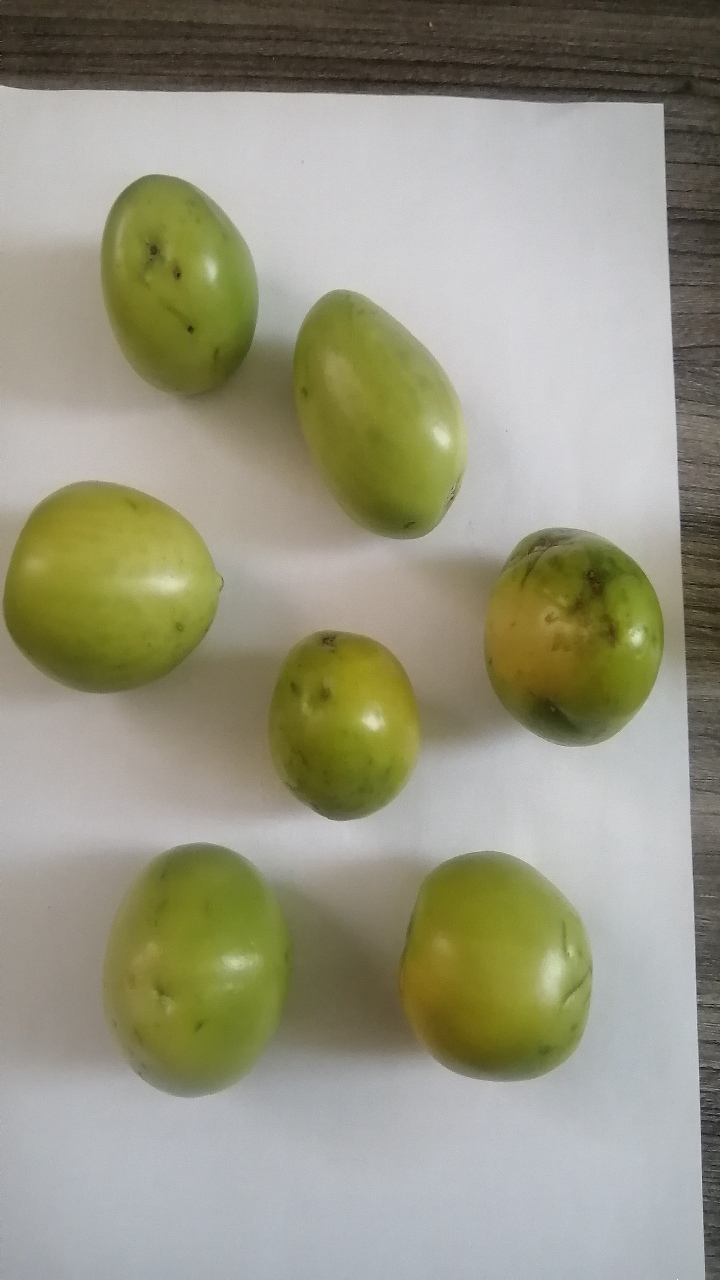tomateVerde: (89, 822, 323, 1119), (261, 251, 477, 571), (463, 499, 694, 789), (64, 139, 295, 428), (4, 455, 240, 735), (375, 831, 606, 1106), (258, 602, 441, 835)
